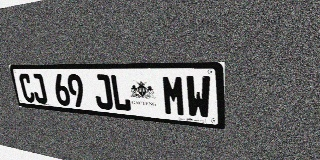6: (52, 74, 71, 106)
9: (66, 74, 86, 108)
C: (18, 73, 36, 103)
J: (92, 74, 114, 110), (30, 74, 48, 104)
L: (109, 74, 132, 112)
M: (161, 75, 186, 117)
W: (185, 75, 211, 119)
